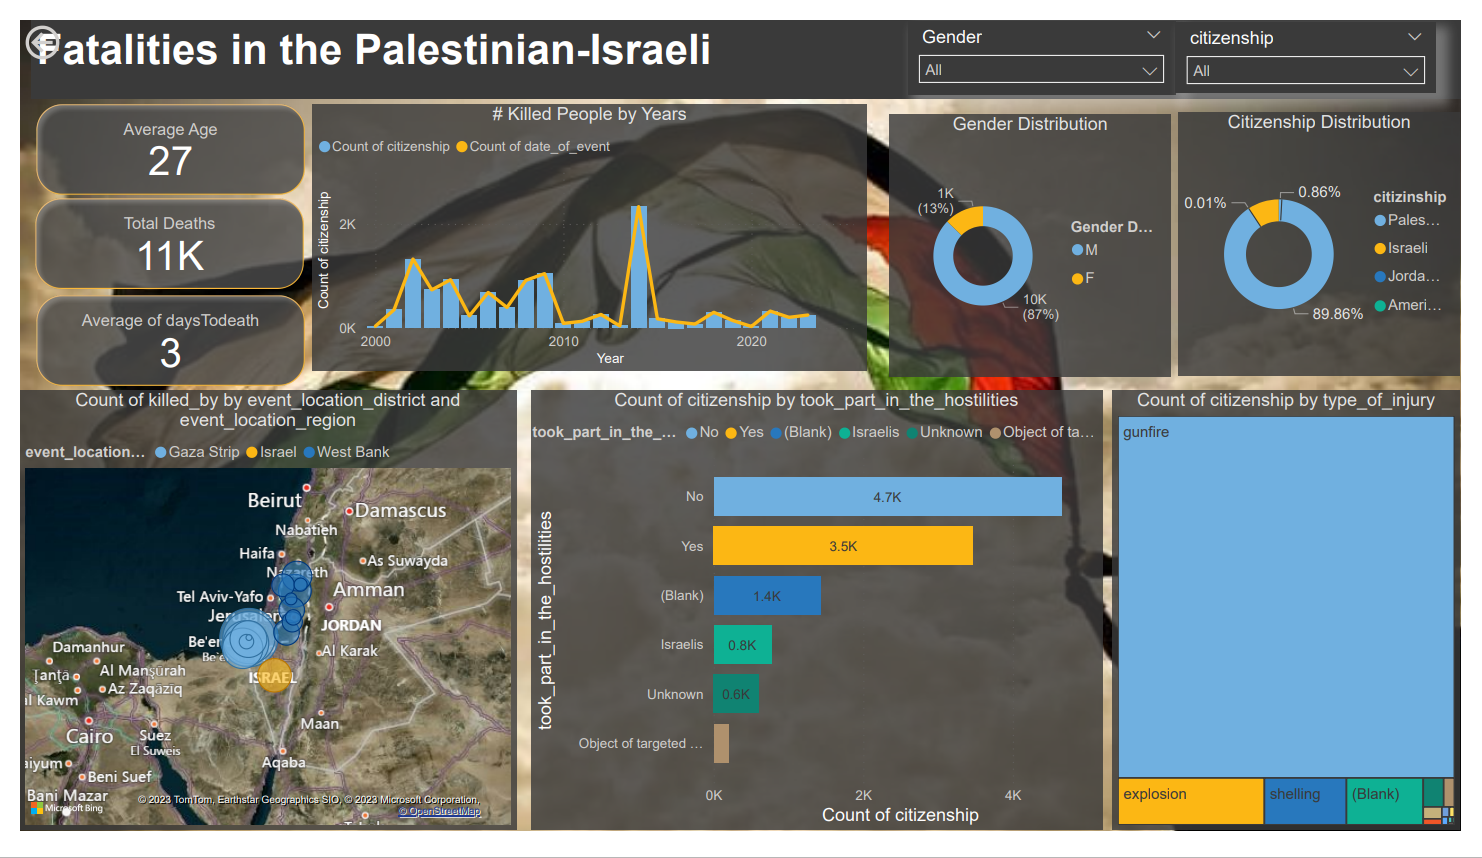

What the dashboard file says about the page in this screenshot:
{"tool":"powerbi","page":{"name":"Page 1","canvas":[1280,720],"ordinal":0},"visuals":[{"type":"textbox","box":[9.6,0,1271,69.9],"z":1000},{"type":"slicer","fields":{"Values":["original (2).gender"]},"box":[788.9,1,237.7,64.8],"z":2000},{"type":"slicer","fields":{"Values":["original (2).citizenship"]},"box":[1026.6,1.7,232.3,63.5],"z":3000},{"type":"cardVisual","fields":{"Data":["Avg(original (2).age)"]},"box":[9.8,69.7,248.1,90.5],"z":4000},{"type":"cardVisual","fields":{"Data":["Count(original (2).name)"]},"box":[8.6,154,248.1,90.5],"z":5000},{"type":"cardVisual","fields":{"Data":["Avg(original (2).daysTodeath)"]},"box":[9.8,239.6,248.1,90.5],"z":6000},{"type":"donutChart","title":"Gender Distribution","fields":{"Category":["original (2).gender"],"Y":["CountNonNull(original (2).gender)"]},"box":[772.7,83.7,249.9,233.7],"z":7000},{"type":"donutChart","title":"Citizenship Distribution","fields":{"Category":["original (2).citizenship"],"Series":["original (2).killed_by"],"Y":["CountNonNull(original (2).citizenship)"]},"box":[1030.1,82.4,249.9,233.7],"z":8000},{"type":"map","fields":{"Category":["original (2).event_location_district"],"Series":["original (2).event_location_region"],"Size":["CountNonNull(original (2).killed_by)"]},"box":[0,328.8,441.3,391.2],"z":9000},{"type":"actionButton","box":[0,0,100,40],"z":10000},{"type":"treemap","fields":{"Group":["original (2).type_of_injury"],"Values":["CountNonNull(original (2).citizenship)"]},"box":[970.6,328.8,309.3,391.2],"z":11000},{"type":"lineStackedColumnComboChart","title":"# Killed People by Years","fields":{"Category":["original (2).date_of_event.Variation.Date Hierarchy.Year"],"Y2":["CountNonNull(original (2).date_of_event)"],"Y":["CountNonNull(original (2).citizenship)"]},"box":[260.4,74.6,492.6,237.1],"z":12000},{"type":"barChart","title":"Count of citizenship by took_part_in_the_hostilities ","fields":{"Category":["original (2).took_part_in_the_hostilities"],"Y":["CountNonNull(original (2).citizenship)"],"Series":["original (2).took_part_in_the_hostilities"]},"box":[453.5,328.8,508.5,391.2],"z":13000}]}

Visuals, with their boxes in screenshot pixels (x1, y1, x2, y2), scaled from the page's 1280x720 canvas onto the 1482x858 screenshot:
textbox: Rect(11, 0, 1481, 83)
slicer - original (2).gender: Rect(913, 1, 1189, 78)
slicer - original (2).citizenship: Rect(1189, 2, 1458, 78)
cardVisual - Avg(original (2).age): Rect(11, 83, 299, 191)
cardVisual - Count(original (2).name): Rect(10, 184, 297, 291)
cardVisual - Avg(original (2).daysTodeath): Rect(11, 286, 299, 393)
"Gender Distribution" donutChart: Rect(895, 100, 1184, 378)
"Citizenship Distribution" donutChart: Rect(1193, 98, 1481, 377)
map - original (2).event_location_district x original (2).event_location_region: Rect(0, 392, 511, 857)
actionButton: Rect(0, 0, 116, 48)
treemap - original (2).type_of_injury x CountNonNull(original (2).citizenship): Rect(1124, 392, 1481, 857)
"# Killed People by Years" lineStackedColumnComboChart: Rect(301, 89, 872, 371)
"Count of citizenship by took_part_in_the_hostilities " barChart: Rect(525, 392, 1114, 857)
